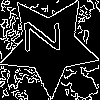Z: (24, 20, 70, 52)
